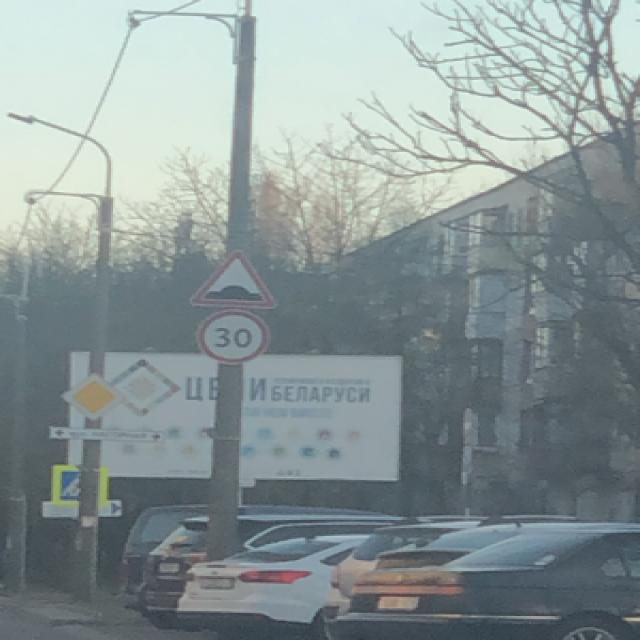crosswalk: (55, 469, 77, 499)
speedlimit: (194, 309, 263, 360)
